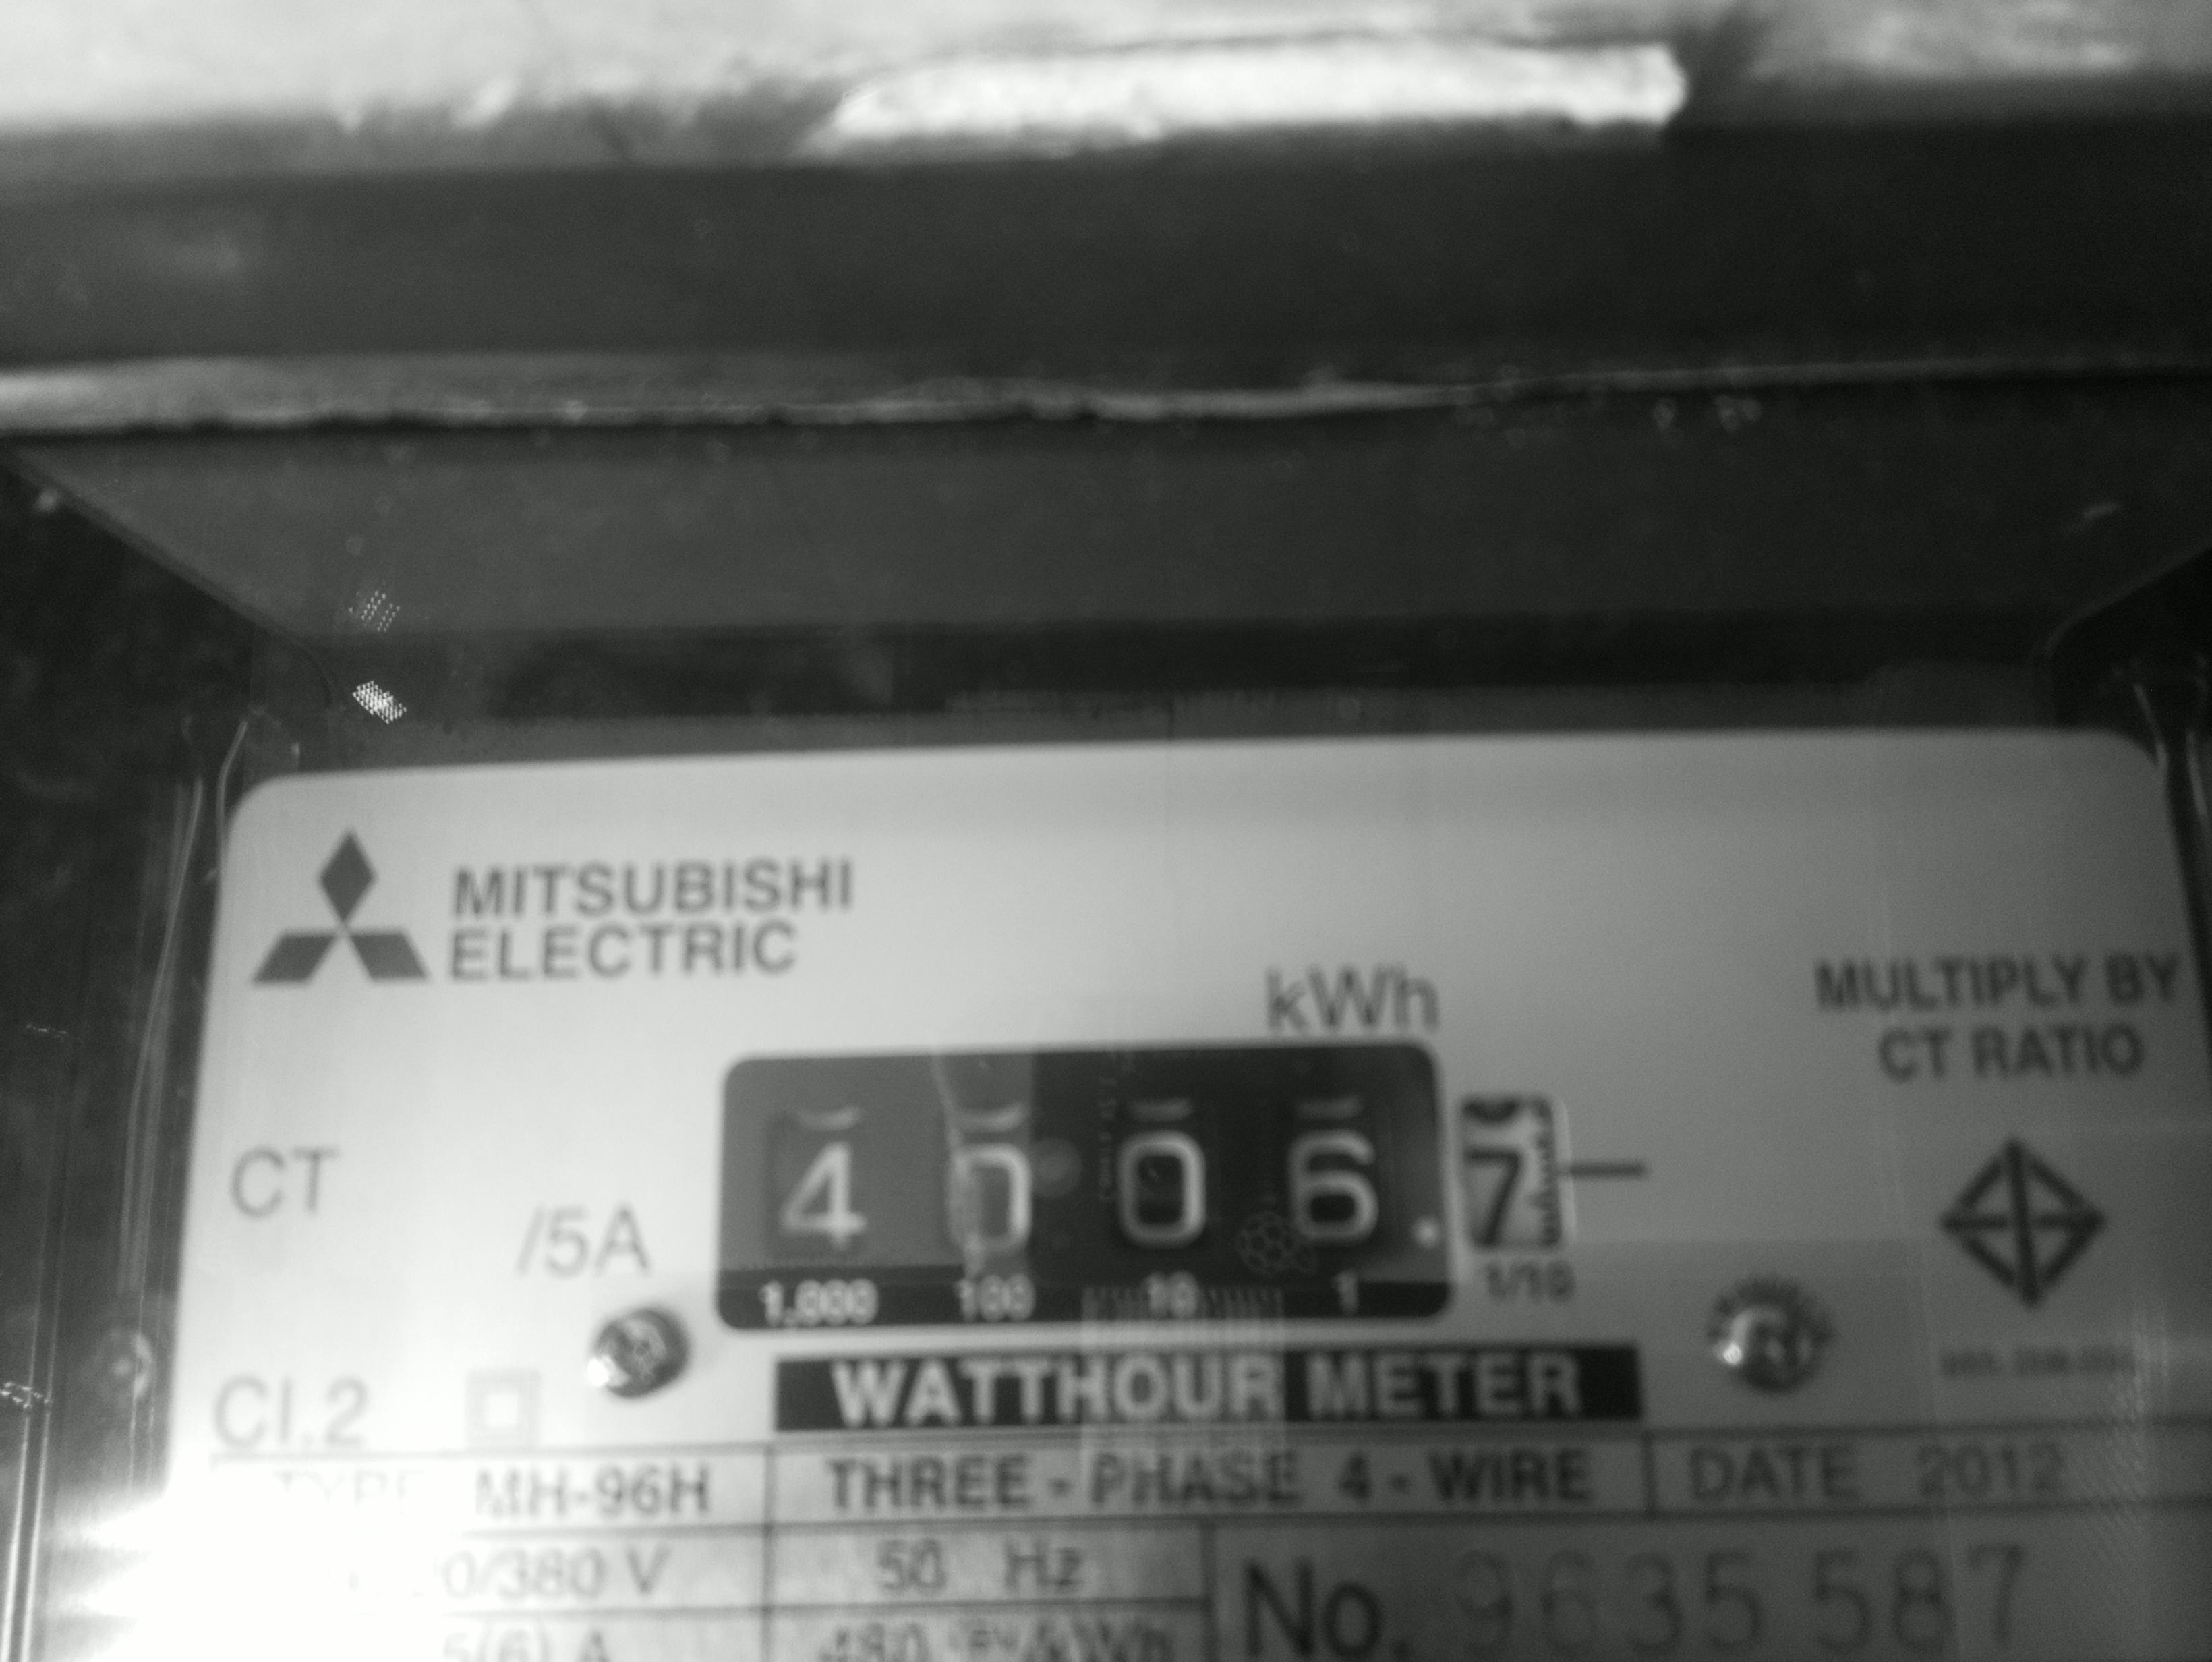meter_box: (674, 1034, 1625, 1339)
